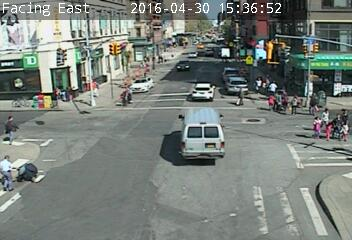neg: (155, 174, 176, 203), (59, 115, 79, 142), (116, 158, 136, 184), (84, 146, 103, 172), (133, 110, 152, 136), (62, 198, 80, 222), (257, 168, 274, 192), (53, 49, 69, 71), (281, 152, 297, 174), (228, 177, 244, 198), (258, 40, 274, 61), (208, 29, 224, 50), (313, 51, 327, 70), (138, 54, 152, 73), (23, 47, 37, 65), (79, 85, 92, 103), (295, 45, 308, 62), (110, 36, 122, 53), (254, 137, 266, 152), (239, 51, 251, 66), (190, 87, 201, 102), (197, 56, 208, 71), (160, 58, 171, 72), (163, 127, 173, 140), (179, 30, 188, 42), (250, 117, 258, 127)
pos: (1, 151, 29, 189), (2, 115, 25, 145), (308, 115, 324, 136), (307, 91, 321, 110), (289, 96, 302, 112), (338, 122, 351, 138), (124, 88, 136, 105), (249, 76, 261, 92), (331, 113, 343, 129), (236, 89, 248, 105), (322, 124, 333, 139), (319, 106, 330, 120), (267, 94, 277, 107), (339, 107, 349, 120), (269, 79, 278, 91)
